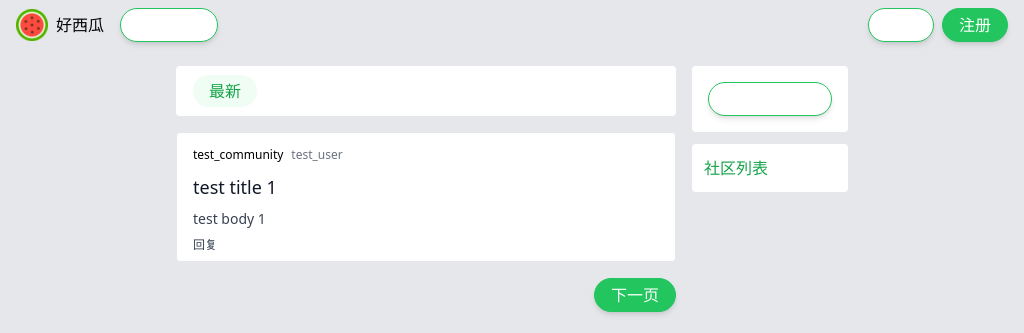
Test case: should display next page
Click the button "下一页" at (635, 295), box [594,278,676,312]
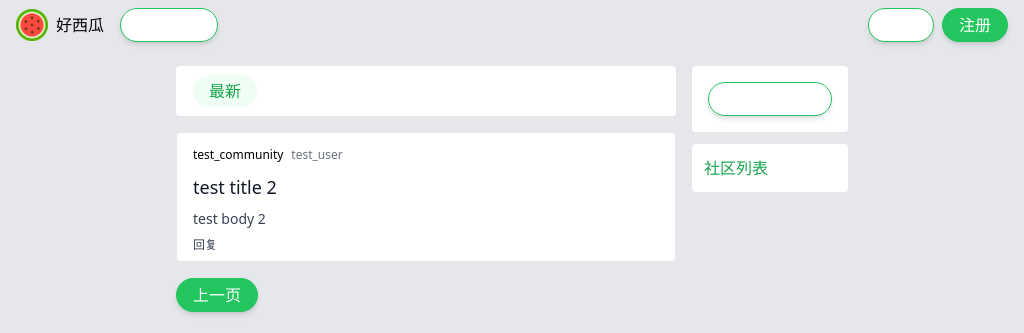
Expected: the heading "test title 1" is gone
Expected: the heading "test title 2" is shown, [193,175,277,199]
Expected: the text "test body 2" is shown, [193,209,266,228]
Click the button "上一页" at (217, 295), box [176,278,258,312]
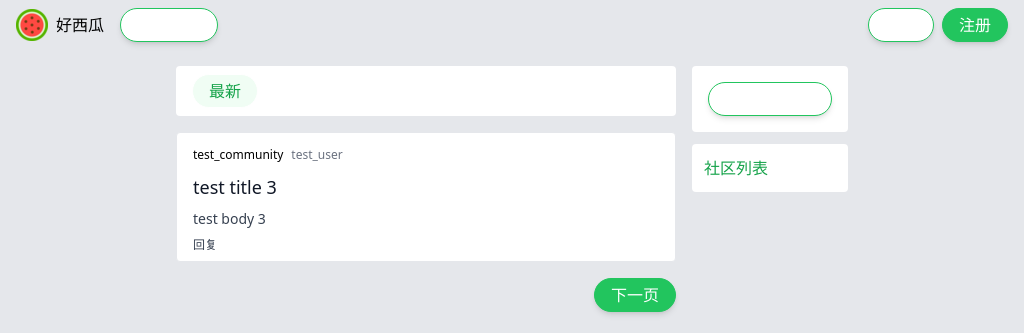
Expected: the heading "test title 2" is gone
Expected: the heading "test title 3" is shown, [193,175,277,199]
Expected: the text "test body 3" is shown, [193,209,266,228]
